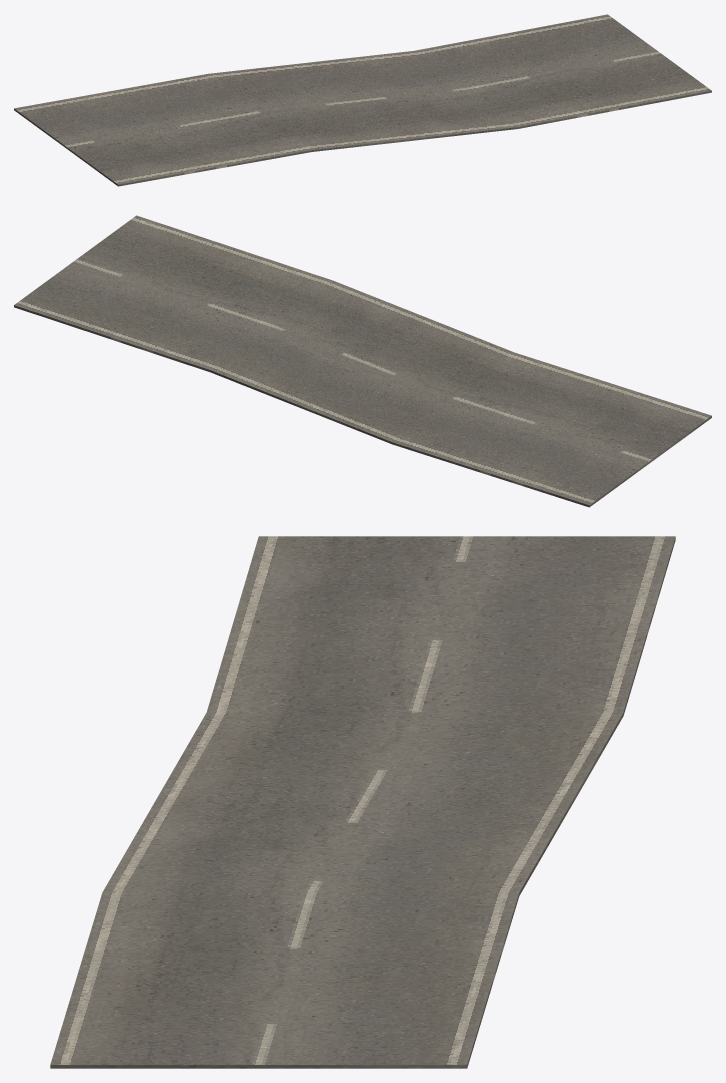
File: road_4_sheer_no_sides.glb
3 renders of one model, top to bottom at view 1: azimuth 30°, elevation 25°; view 2: azimuth 150°, elevation 25°; view 3: azimuth 270°, elevation 25°, orthographic. The views are drawn at different scales.
Visible parts, largest first — view 1: road_4_sheer_no_sides; view 2: road_4_sheer_no_sides; view 3: road_4_sheer_no_sides.
Boxes of the visible parts, x1,y1,x2,y2 form: road_4_sheer_no_sides: [14, 14, 711, 186]; road_4_sheer_no_sides: [14, 215, 711, 507]; road_4_sheer_no_sides: [50, 536, 675, 1068].
Size of the model in its own units: 48 by 0.32 by 24.
Materials: 1 (1 with a texture image).
